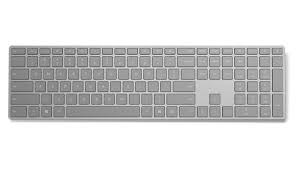keyboard: (4, 39, 291, 127)
